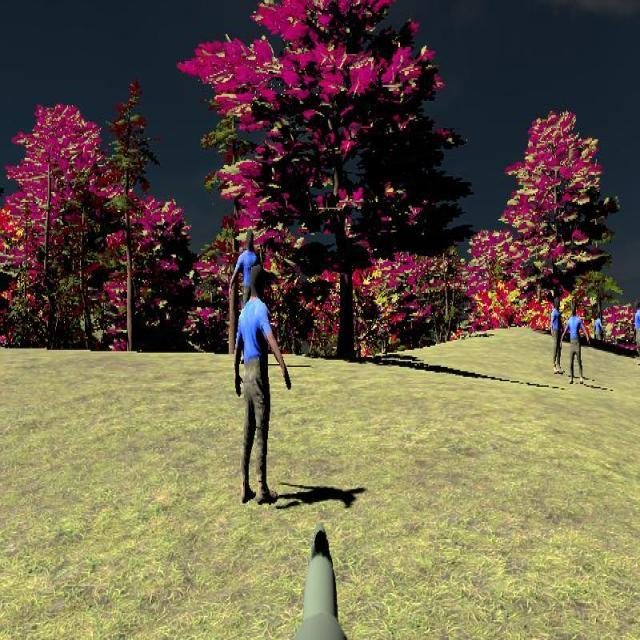Human: (235, 263, 292, 509), (229, 229, 263, 359), (560, 302, 590, 385), (551, 293, 565, 374), (632, 300, 640, 366)
